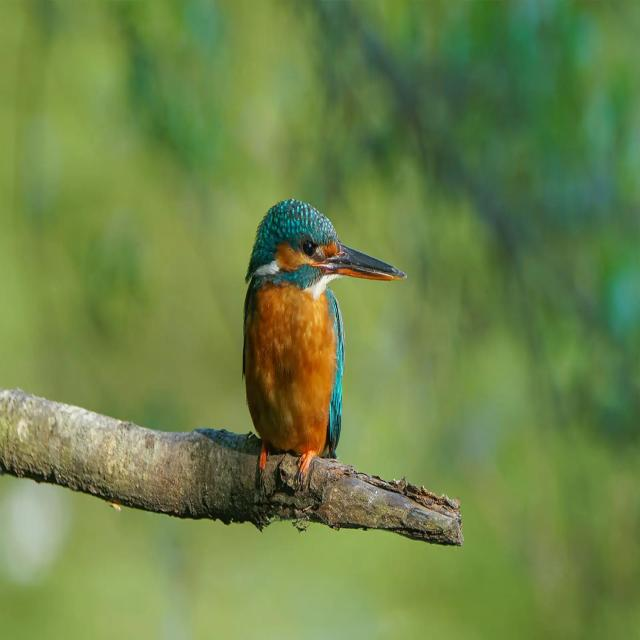kingfisher: (223, 181, 412, 486)
